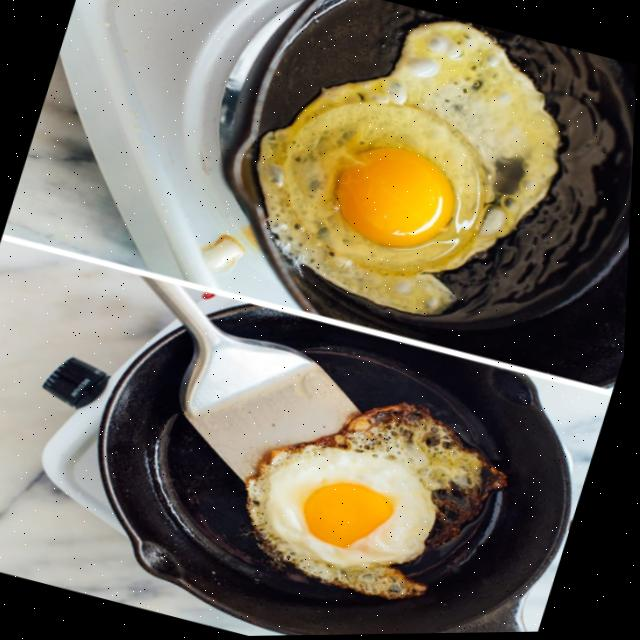Egg: (257, 22, 560, 316), (250, 404, 510, 600)
